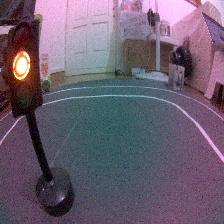amber: (1, 14, 79, 217)
